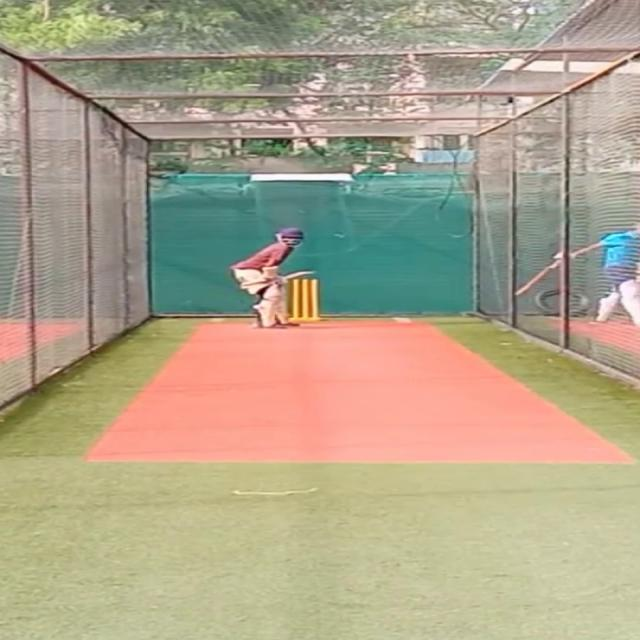stump: (292, 276, 324, 322)
